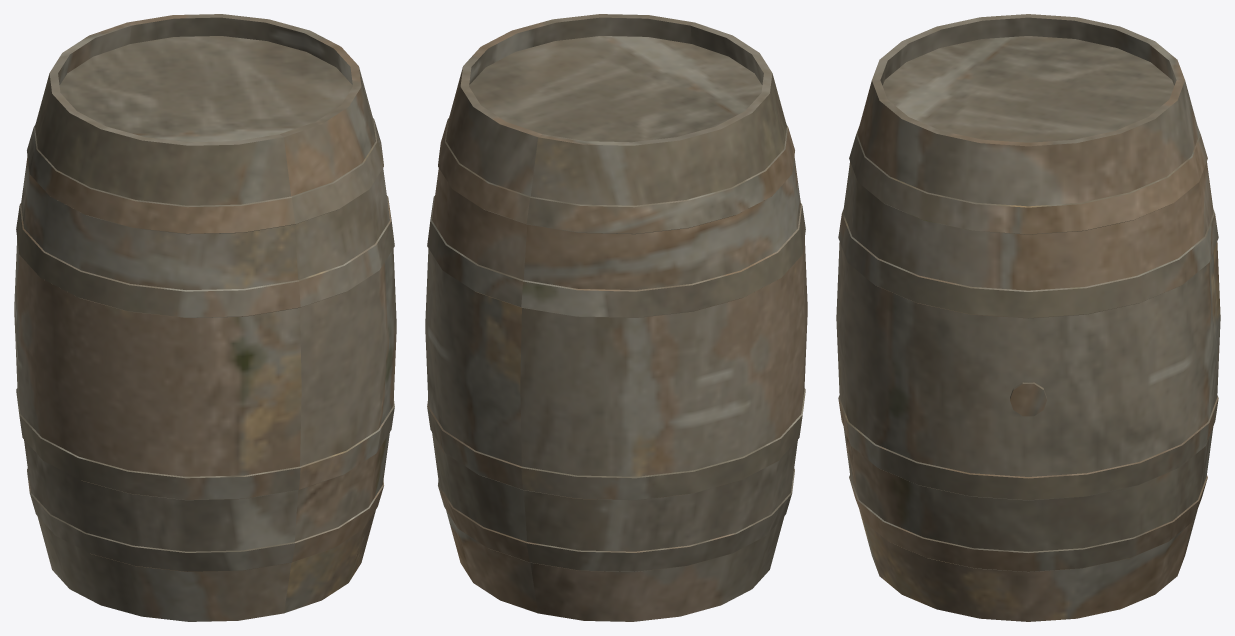
Rendered from barrel.fbx.
3 renders of one model, left to right at view 1: azimuth 30°, elevation 25°; view 2: azimuth 150°, elevation 25°; view 3: azimuth 270°, elevation 25°, orthographic.
Visible parts, largest first — view 1: Cylinder.048; view 2: Cylinder.048; view 3: Cylinder.048.
Part boxes in pixels (x1,y1,x2,y2): Cylinder.048: (14,14,396,621); Cylinder.048: (425,14,807,621); Cylinder.048: (836,14,1220,621).
Size of the model in its own units: 61.52 by 83.53 by 61.17.
